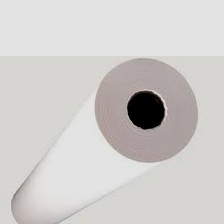tissue: (6, 56, 204, 224)
